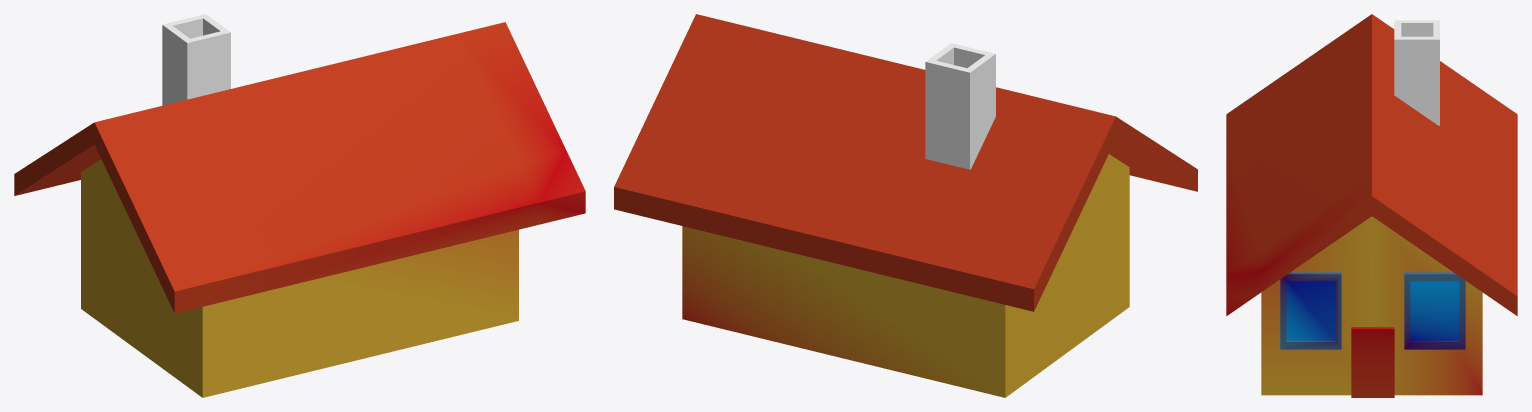
File: beveled_house.fbx
The picture shows the model from 3 angles, left to right: view 1: azimuth 30°, elevation 25°; view 2: azimuth 150°, elevation 25°; view 3: azimuth 270°, elevation 25°; orthographic projection. The views are drawn at different scales.
Visible parts, largest first — view 1: Cube; view 2: Cube; view 3: Cube.
Boxes of the visible parts, left/top/right/bottom form: Cube: left=14, top=14, right=585, bottom=397; Cube: left=614, top=14, right=1197, bottom=397; Cube: left=1226, top=14, right=1517, bottom=397.
Size of the model in its own units: 13.86 by 9.25 by 9.37.
